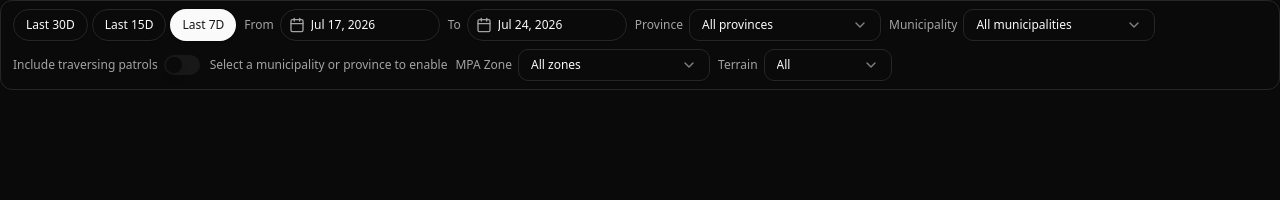
Test: ReportFilterBar › narrows the Municipality select to only the selected province's municipalities
The width and height of the screenshot is (1280, 200).
Click the dropdown with test id "report-province": (785, 25) [689,9,881,41]
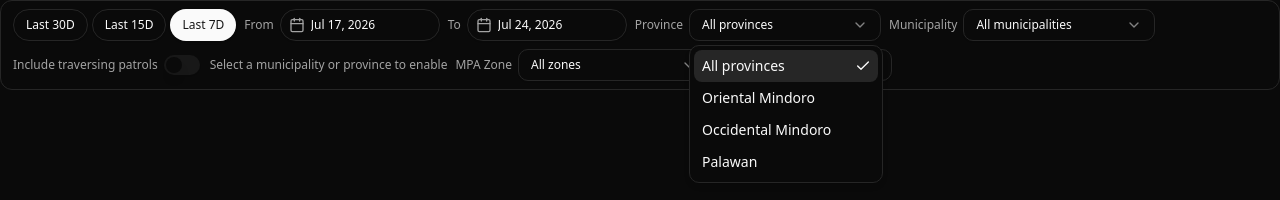
Click the option "Oriental Mindoro": (759, 98) [702,88,815,107]
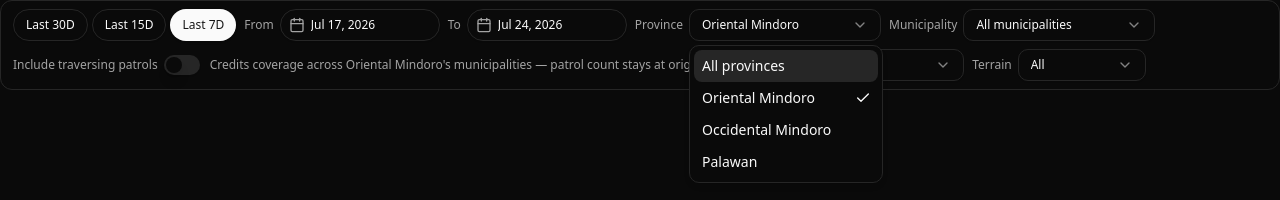
Click the dropdown with test id "report-municipality": (1059, 25) [963,9,1155,41]
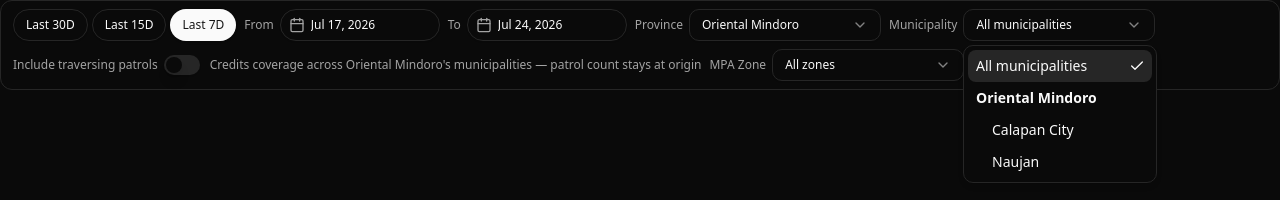
expect the text "Calapan City" is shown: met, box [992,120,1074,140]
expect the text "Naujan" is shown: met, box [992,152,1039,172]
